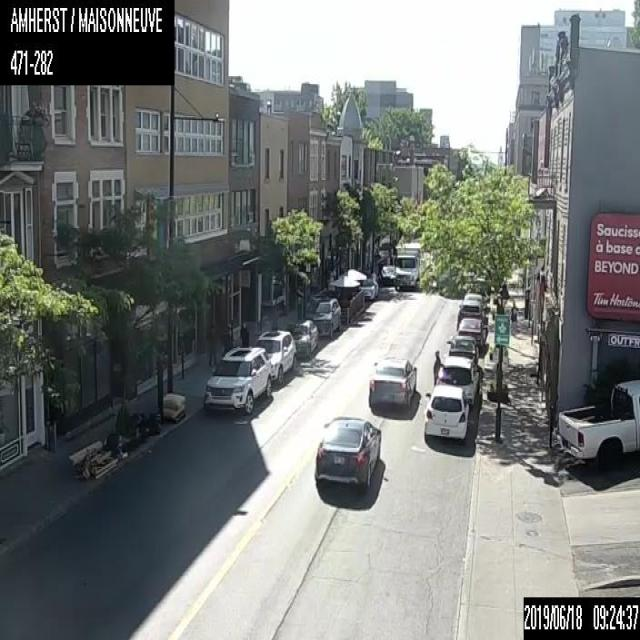pedestrian: (207, 322, 218, 367), (431, 348, 440, 384), (239, 319, 250, 346), (509, 300, 516, 335)
vehicle: (556, 377, 639, 480), (313, 413, 381, 492), (202, 346, 272, 414), (366, 355, 416, 409), (423, 384, 469, 440), (254, 329, 296, 383), (436, 355, 479, 404), (304, 296, 341, 337), (394, 241, 421, 290), (285, 318, 317, 357), (457, 317, 487, 346), (446, 335, 478, 362), (456, 300, 483, 328), (358, 276, 377, 298), (463, 292, 486, 310), (378, 265, 394, 285)
